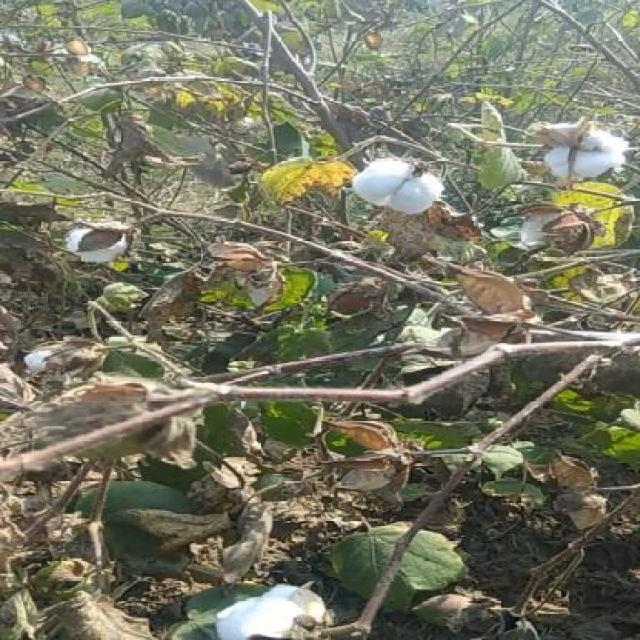cotton_ready: (168, 582, 378, 640), (347, 159, 465, 221), (547, 112, 627, 196), (47, 217, 155, 278)
